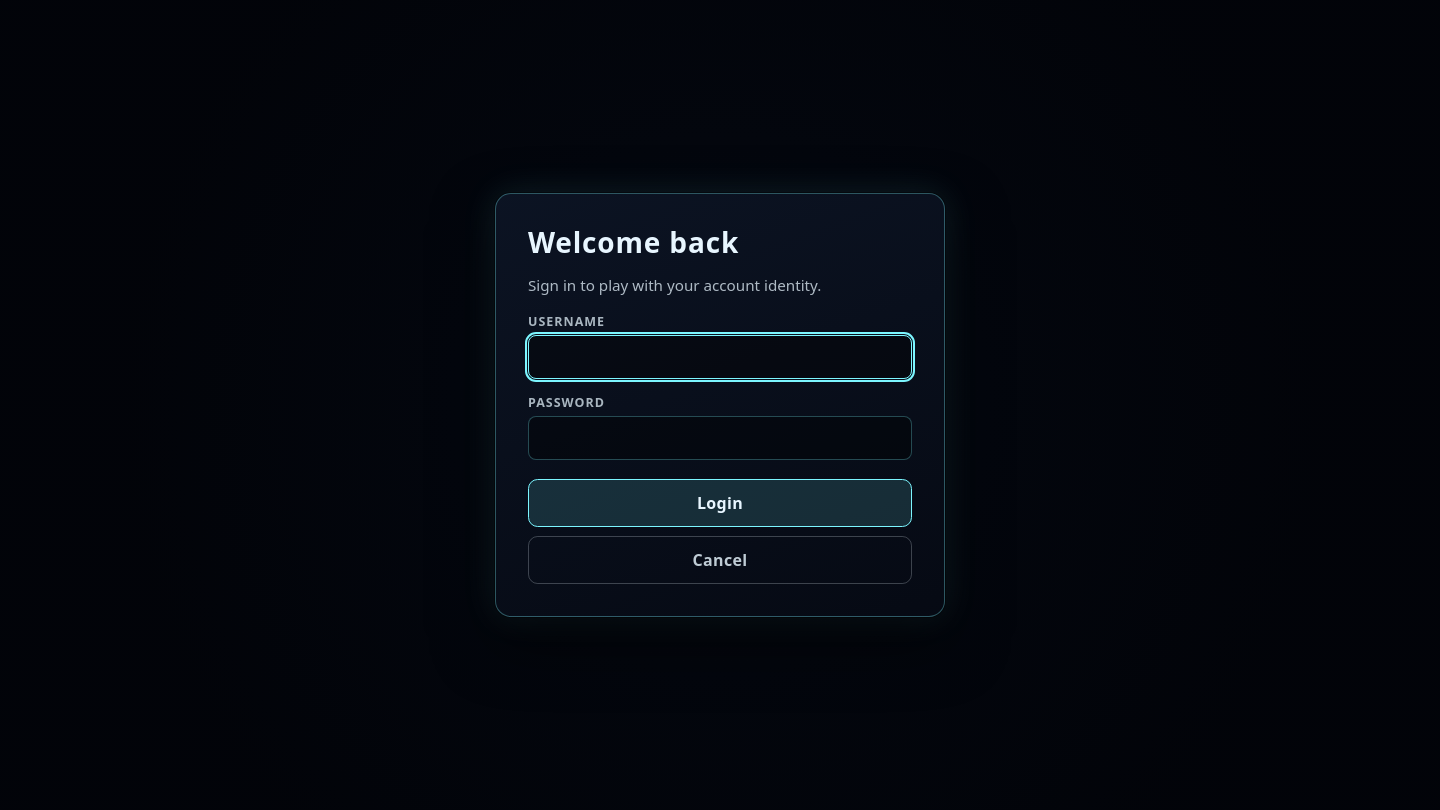
Test case: AuthForms — interaction extra › shows a validation error when submitting an empty login form
Step 1. Click the button "Login" → (720, 503), box [528,479,912,527]
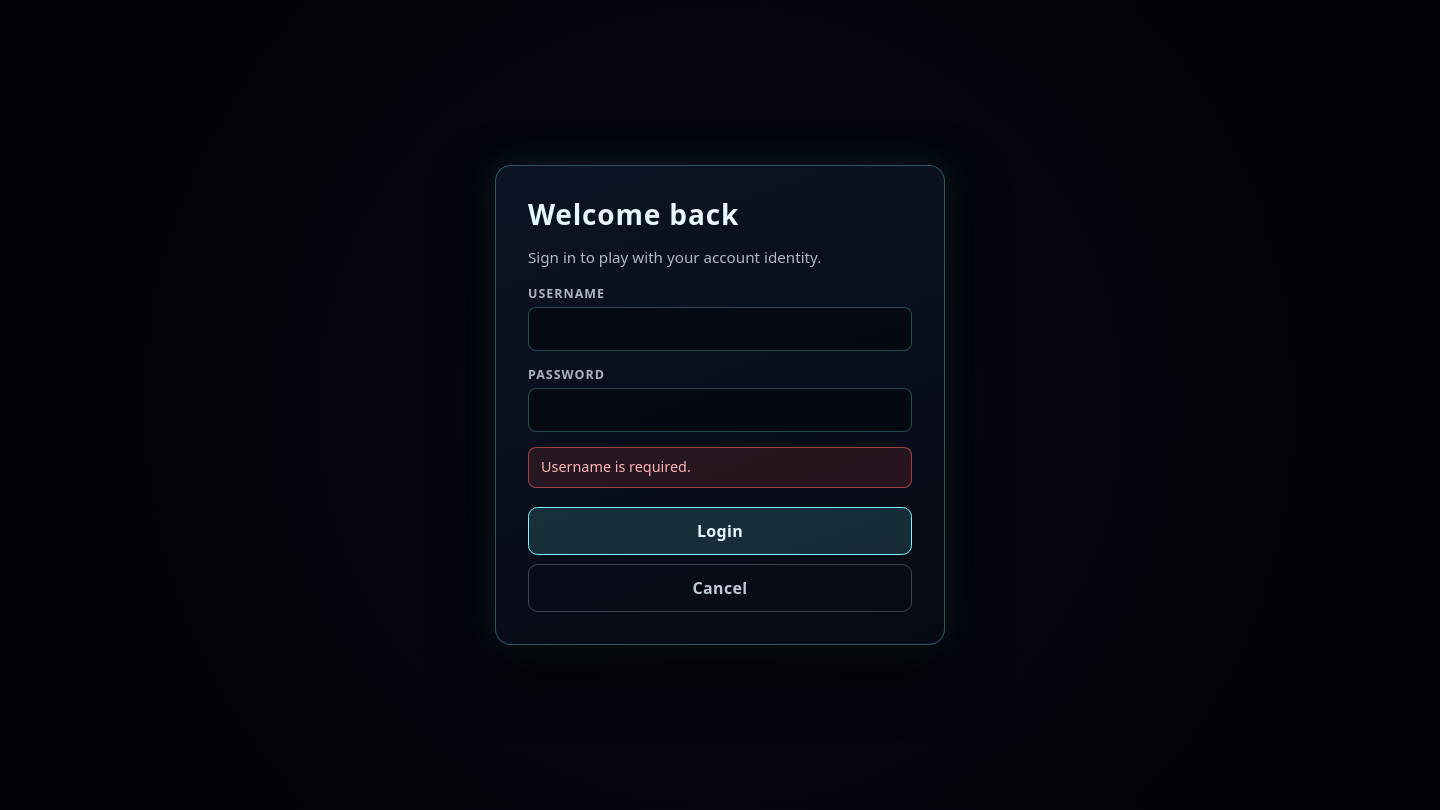
Now the message reads "Username is required.", box [541,457,691,476]
